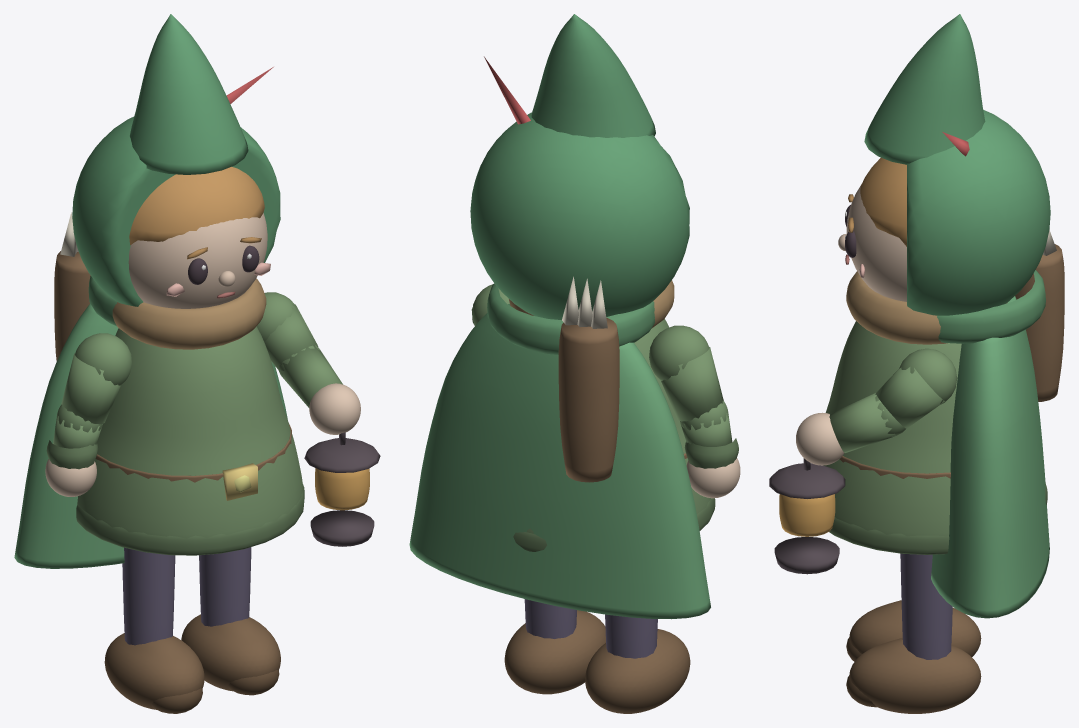
The model's file is hero_wren.glb.
3 views of the same model, side by side, from view 1: azimuth 30°, elevation 25°; view 2: azimuth 150°, elevation 25°; view 3: azimuth 270°, elevation 25° (orthographic). The views are drawn at different scales.
Parts seen in each view (by area): view 1: hero_wren; view 2: hero_wren; view 3: hero_wren.
Boxes of the visible parts, x1,y1,x2,y2 form: hero_wren: (14, 14, 380, 713); hero_wren: (409, 14, 740, 713); hero_wren: (769, 14, 1064, 713).
Size of the model in its own units: 1.01 by 2.27 by 0.9064.
